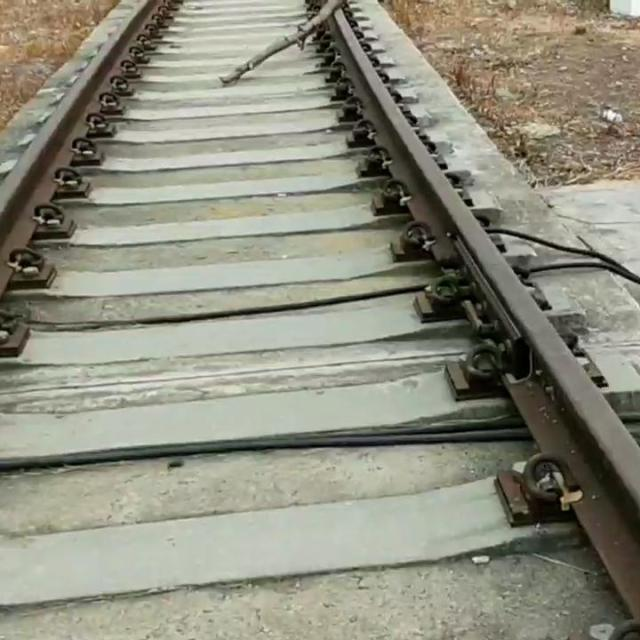danger: (210, 0, 378, 99)
rail: (296, 0, 640, 640)
